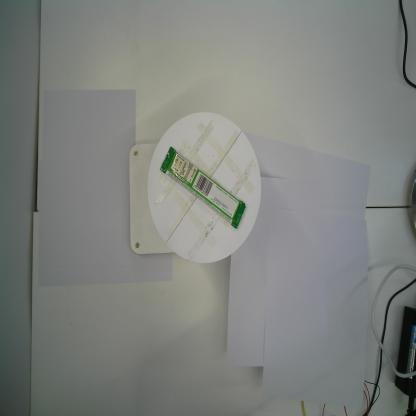Chocolate: (157, 144, 245, 233)
